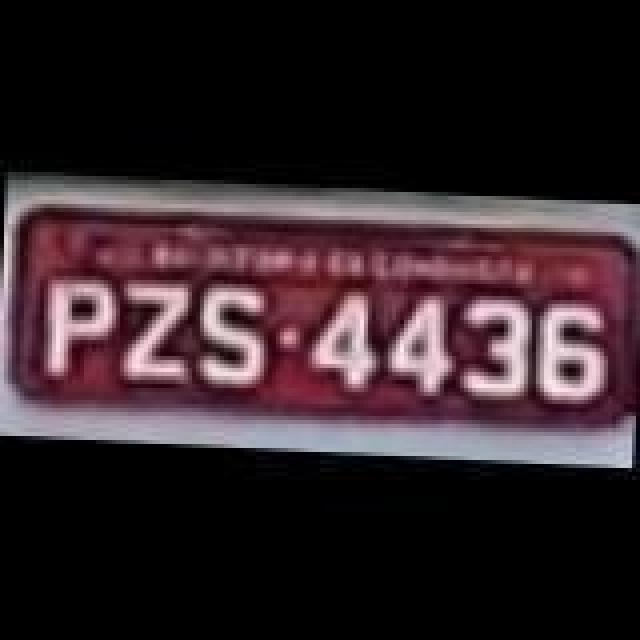3: (454, 296, 538, 408)
4: (376, 292, 456, 404), (306, 288, 382, 400)
6: (536, 292, 616, 412)
P: (40, 274, 120, 390)
S: (194, 278, 278, 394)
Z: (112, 282, 200, 390)
